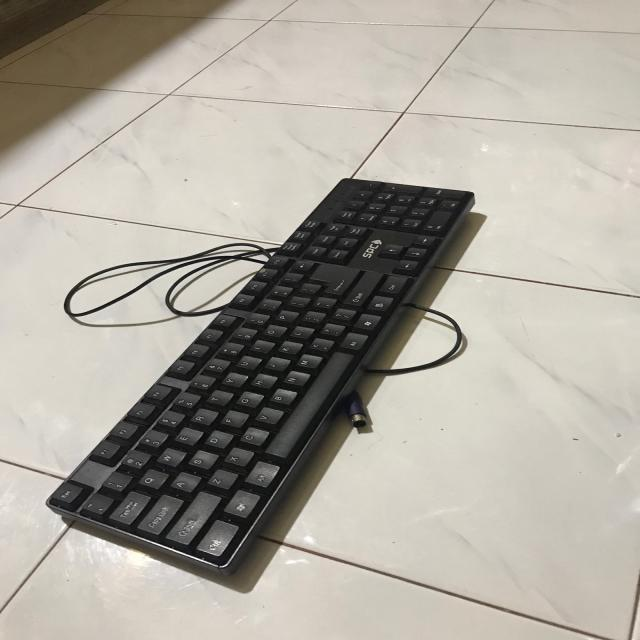-mouse-: (47, 177, 477, 580)
